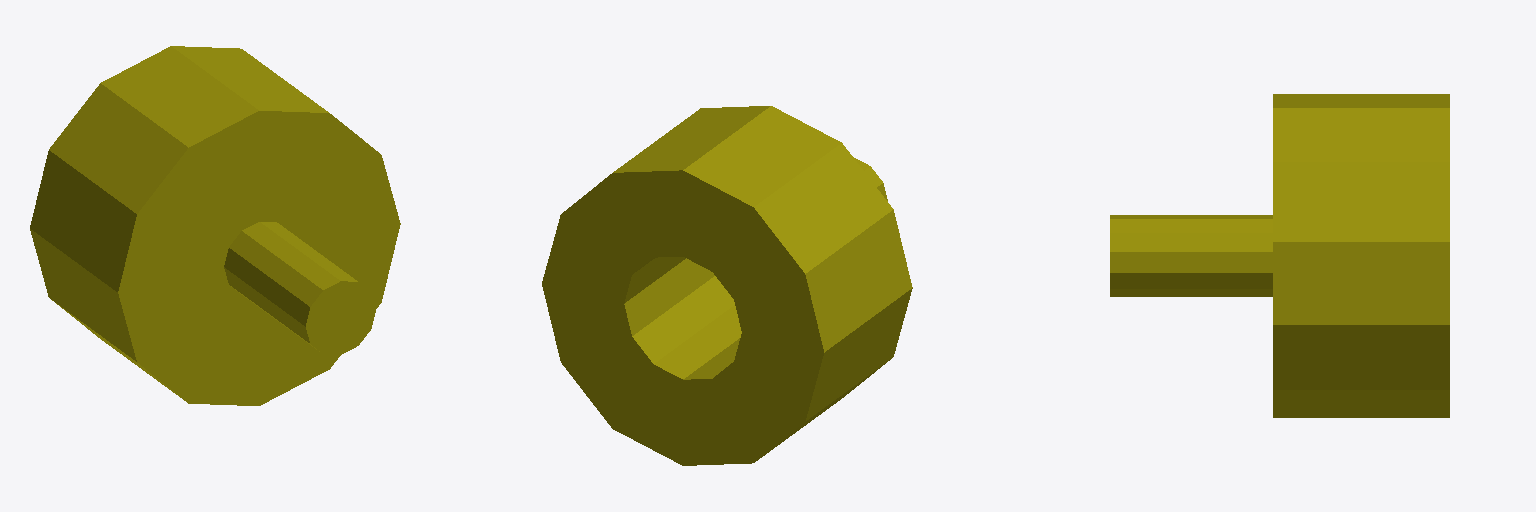
3 views of the same model, side by side, from view 1: azimuth 30°, elevation 25°; view 2: azimuth 150°, elevation 25°; view 3: azimuth 270°, elevation 25° (orthographic).
Visible parts, largest first — view 1: Cylinder.body_Cylinder.004; view 2: Cylinder.body_Cylinder.004; view 3: Cylinder.body_Cylinder.004.
Part boxes in pixels (x1,y1,x2,y2): Cylinder.body_Cylinder.004: (30,46,400,405); Cylinder.body_Cylinder.004: (542,106,912,465); Cylinder.body_Cylinder.004: (1110,94,1449,417).
Bounding box in the file's own units: 0.12 × 0.12 × 0.125.